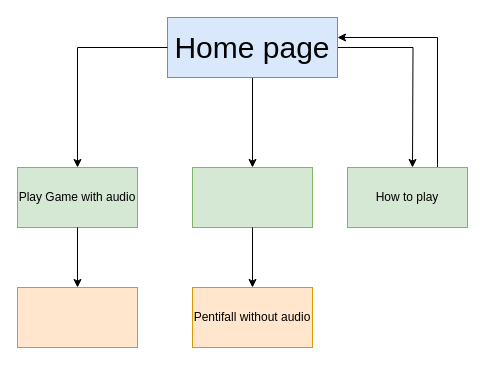
Image size: 485x365. Some labels were removed from this diagram. The shapes that lost their labels are listed below. From the top down, each one's centre as x and y in pixels, then its label:
[252,197]: Play game without music
[77,317]: Pentifall with audio
